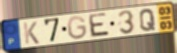3: (116, 9, 137, 36)
7: (43, 17, 61, 44)
E: (88, 11, 112, 38)
G: (66, 14, 88, 41)
K: (22, 20, 41, 45)
Q: (138, 8, 157, 32)
